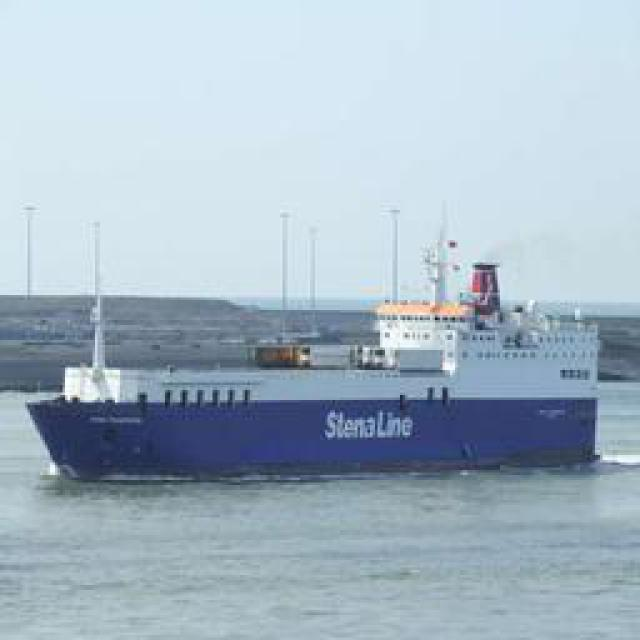Ship: (18, 271, 623, 479)
